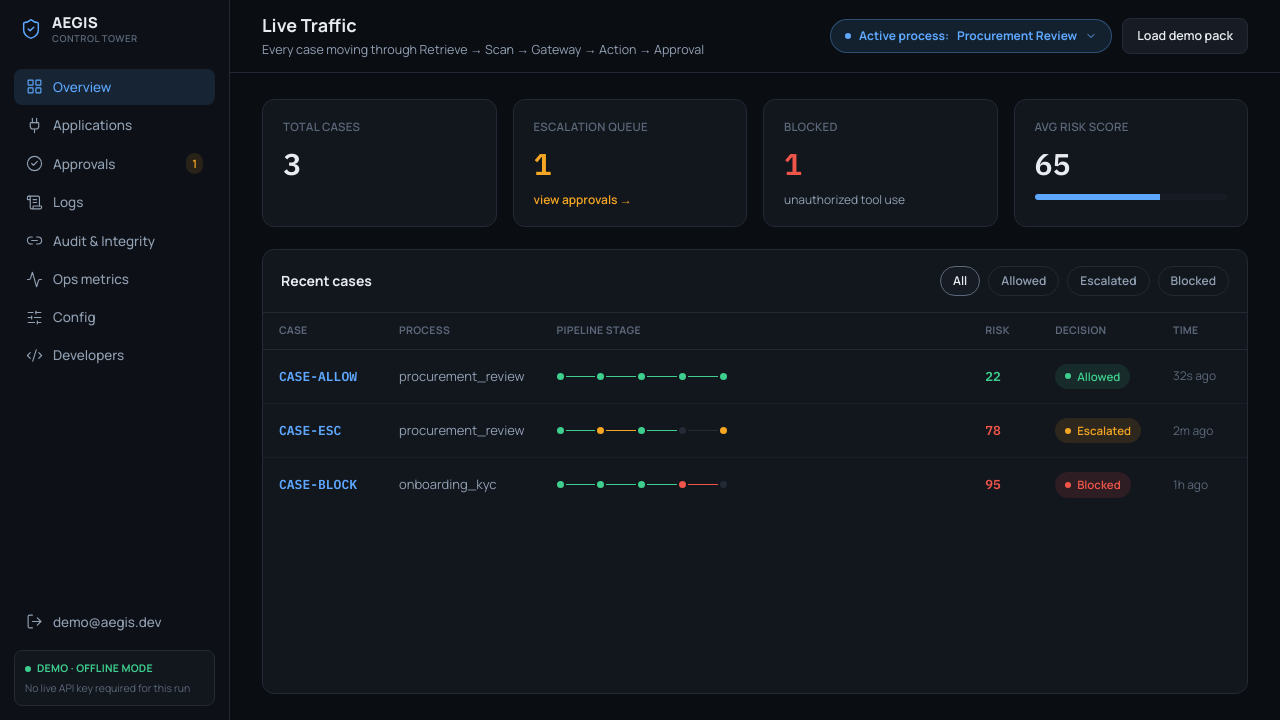
Test: OverviewPage › dismisses demo pack error banner
Expected: the link "CASE-ALLOW" is shown, left=279, top=368, right=357, bottom=385
Click the button "Load demo pack".
click(1185, 36)  # box left=1122, top=18, right=1248, bottom=54
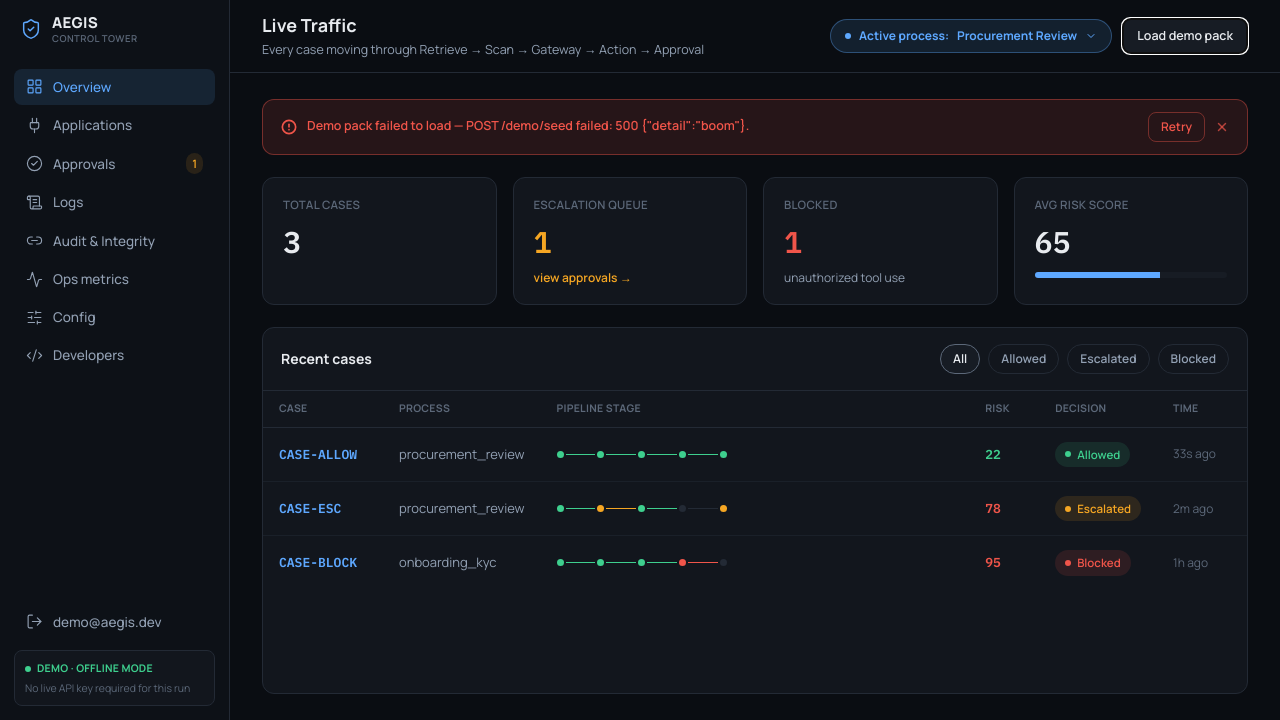
Expected: the text "Demo pack failed to load" is shown, left=307, top=117, right=466, bottom=134
Click the button named "Dismiss".
click(1222, 127)  # box left=1215, top=120, right=1229, bottom=134
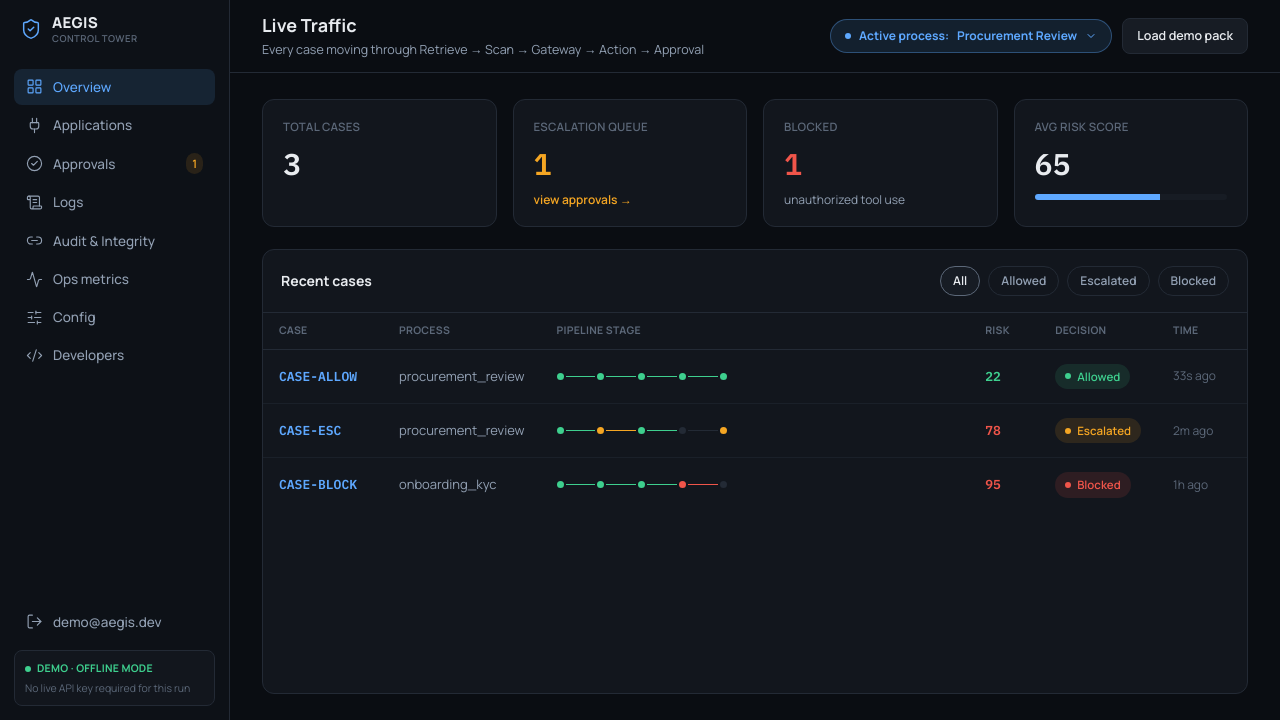
Expected: the text "Demo pack failed to load" is gone
